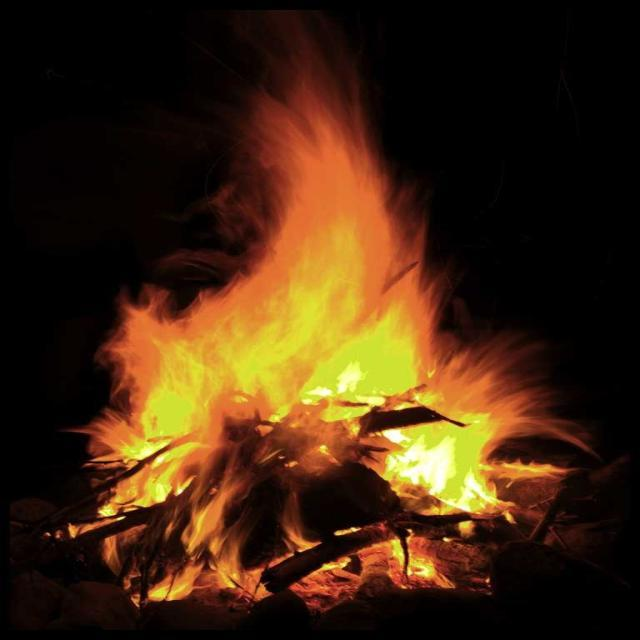Fire: (92, 418, 391, 596), (121, 296, 457, 409), (257, 126, 433, 294), (395, 426, 499, 510), (459, 354, 579, 424)
